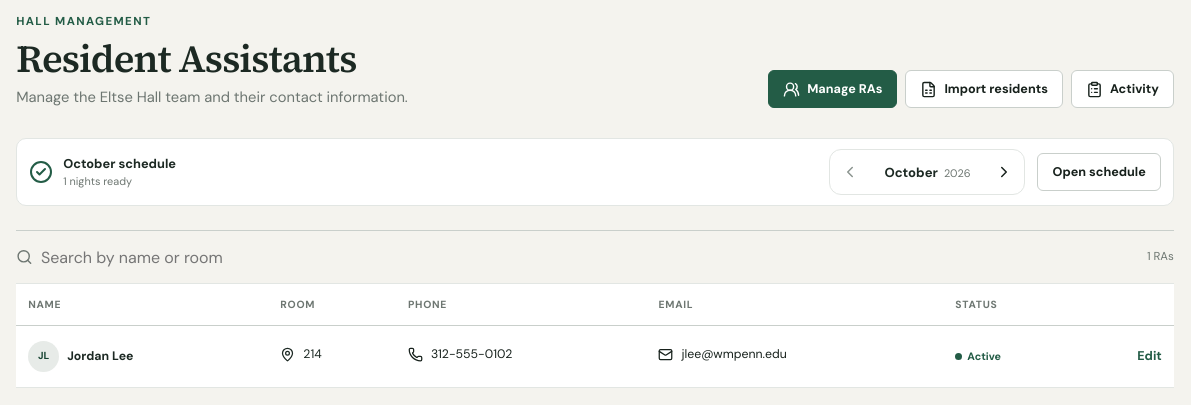
Test case: Hall Director schedule desk › focuses on managing RAs and supports schedules two months ahead
The image size is (1191, 405).
Expected: the heading "Resident Assistants" is shown, [16,39,408,79]
Expected: the field with placeholder "Search by name or room" is shown, [41,237,376,277]
Click the button named "Next month" at x=1004, y=172, box [984,152,1024,192]
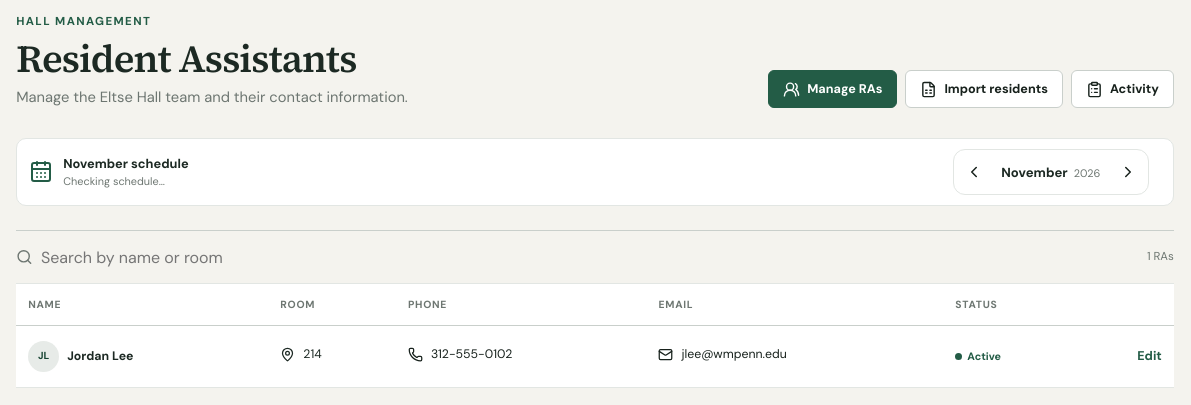
Click the button named "Next month" at x=1128, y=172, box [1108,152,1148,192]
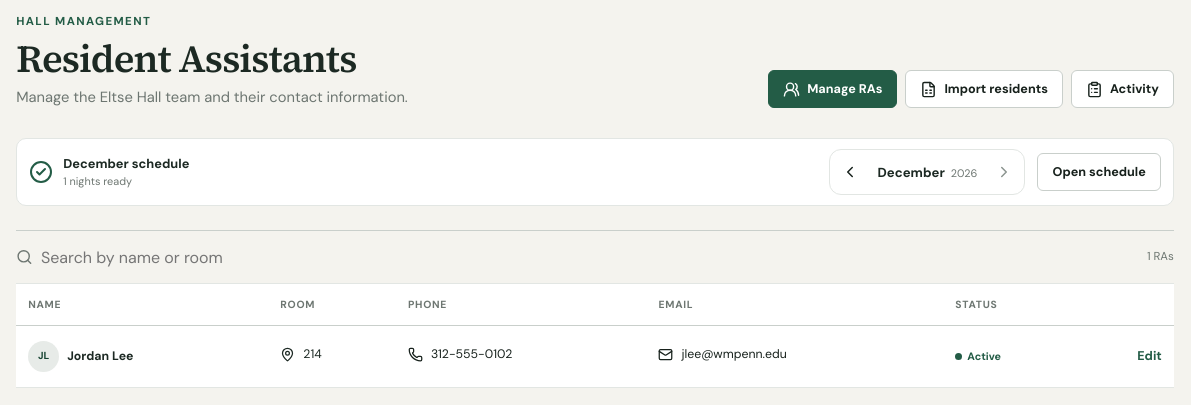
Expected: the button named "Next month" is disabled, [984,152,1024,192]
